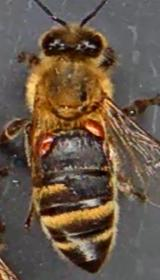varroa_mite: (82, 115, 110, 142), (32, 130, 59, 155)
